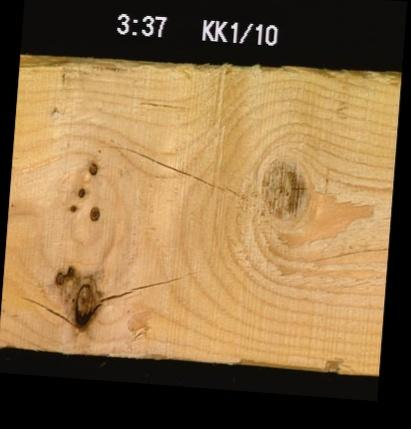dry_knot: (87, 204, 100, 221), (87, 160, 98, 174)
small_knot: (76, 185, 85, 197), (67, 202, 77, 212)
sound_knot: (259, 160, 304, 219)
split: (101, 147, 248, 194), (98, 263, 200, 310), (303, 235, 387, 267), (13, 292, 81, 329), (135, 99, 201, 109)
wave: (19, 55, 161, 79), (233, 346, 348, 367), (127, 343, 196, 358)
